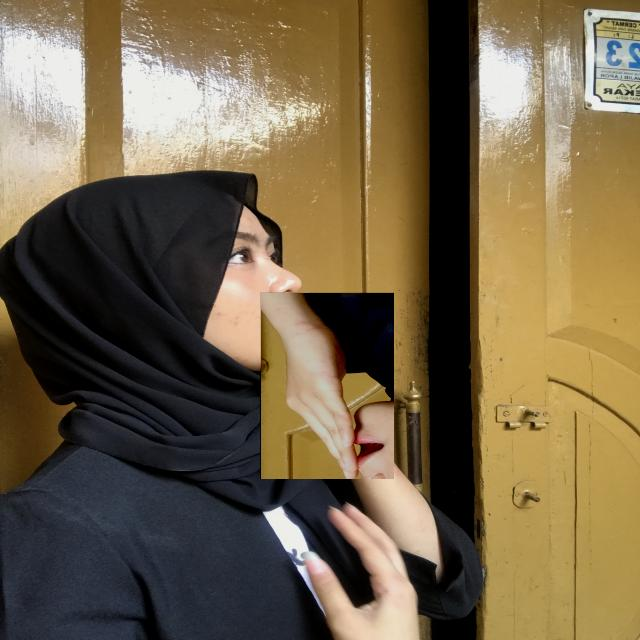ngantuk: (260, 292, 394, 479)
